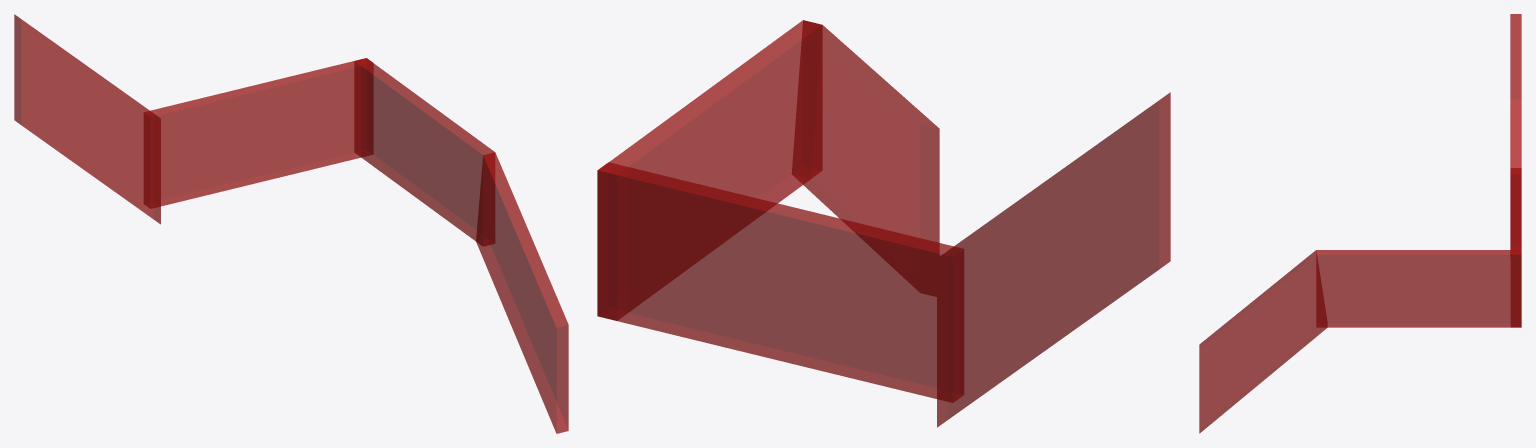
Rendered from SM_Bld_House_Stairs_02_Railing_02_Collision.fbx.
The picture shows the model from 3 angles, left to right: view 1: azimuth 30°, elevation 25°; view 2: azimuth 150°, elevation 25°; view 3: azimuth 270°, elevation 25°; orthographic projection. The views are drawn at different scales.
Parts seen in each view (by area): view 1: SM_Bld_House_Stairs_02_Railing_02_Collision; view 2: SM_Bld_House_Stairs_02_Railing_02_Collision; view 3: SM_Bld_House_Stairs_02_Railing_02_Collision.
Part boxes in pixels (left/top/right/bottom): SM_Bld_House_Stairs_02_Railing_02_Collision: left=14, top=14, right=568, bottom=433; SM_Bld_House_Stairs_02_Railing_02_Collision: left=597, top=20, right=1170, bottom=427; SM_Bld_House_Stairs_02_Railing_02_Collision: left=1199, top=14, right=1521, bottom=433.
Size of the model in its own units: 392 by 377 by 390.
